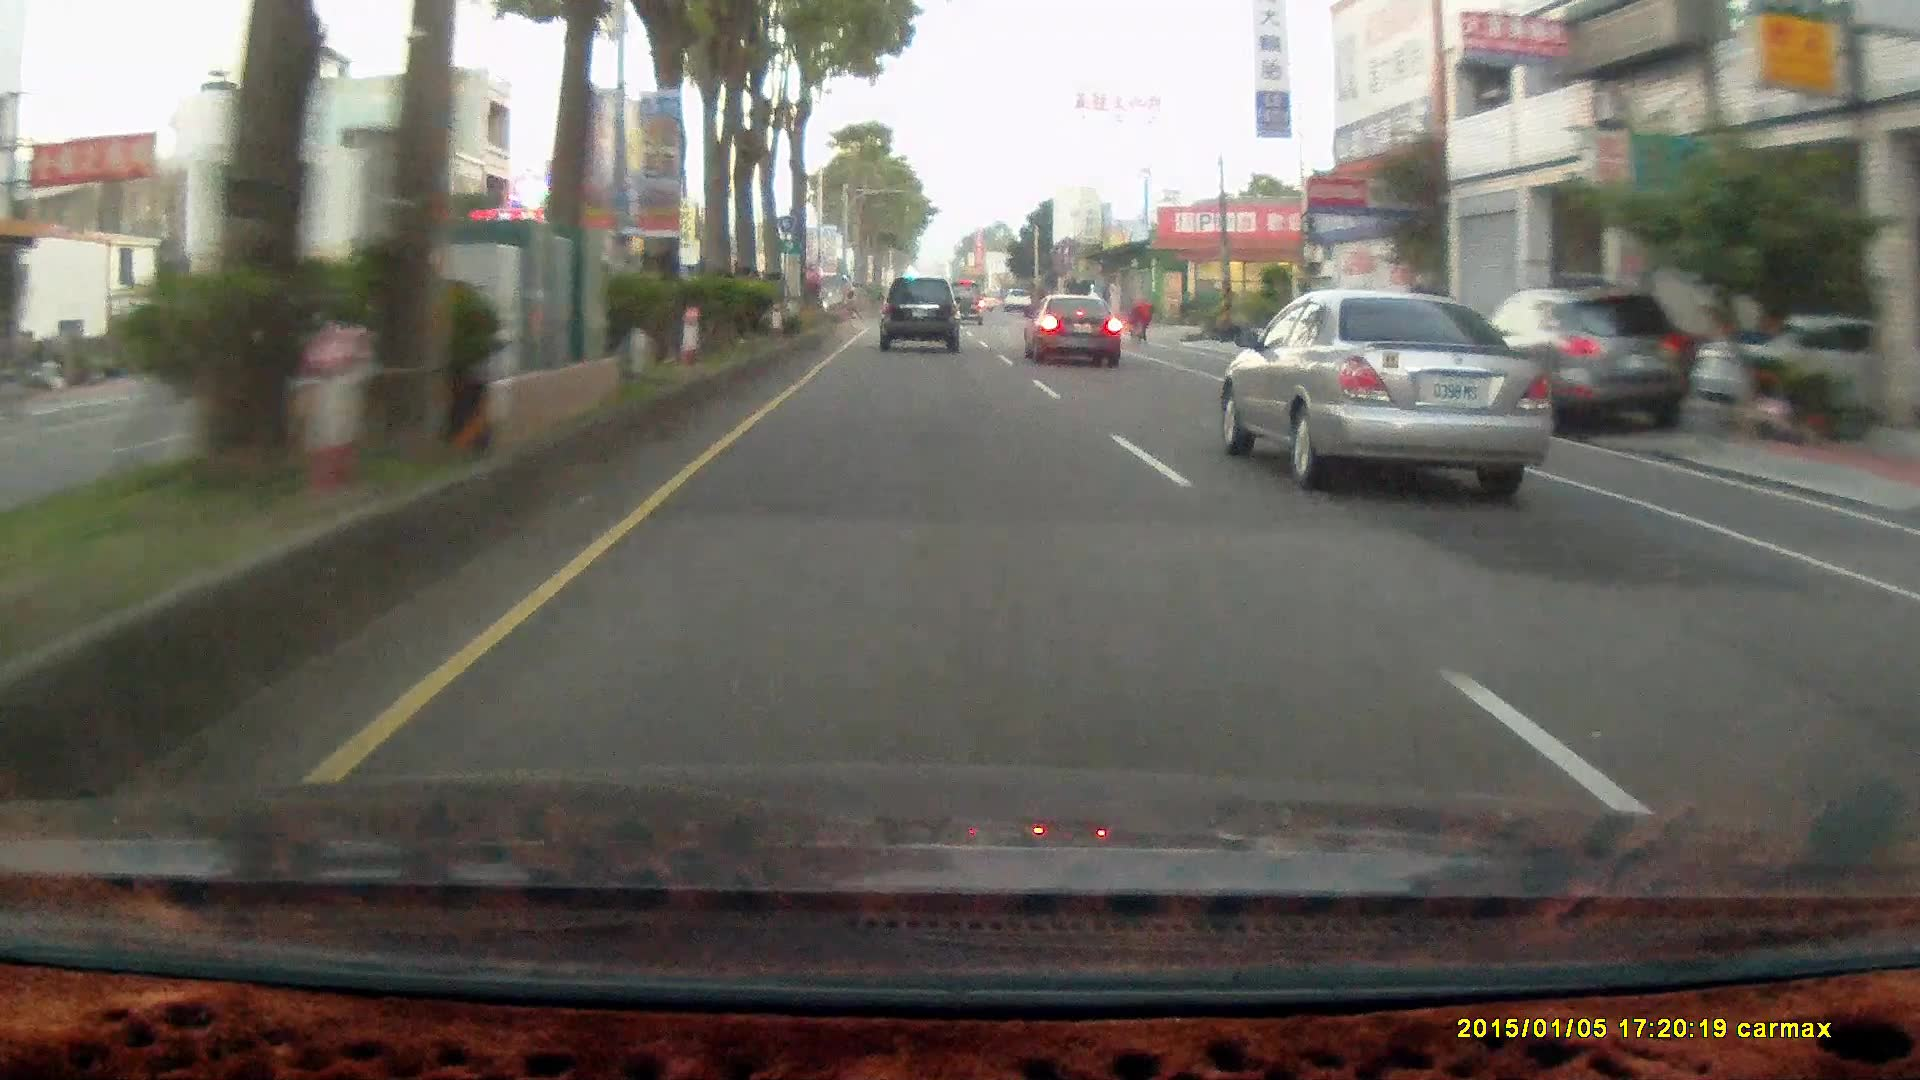pedestrian: (1134, 293, 1154, 342), (1133, 294, 1153, 342)
vehicle: (1219, 292, 1546, 479), (1453, 284, 1698, 433), (1453, 283, 1697, 432), (1692, 311, 1920, 425), (1022, 293, 1125, 370), (1022, 289, 1121, 365), (878, 278, 966, 352), (878, 276, 959, 351), (946, 283, 986, 329)
